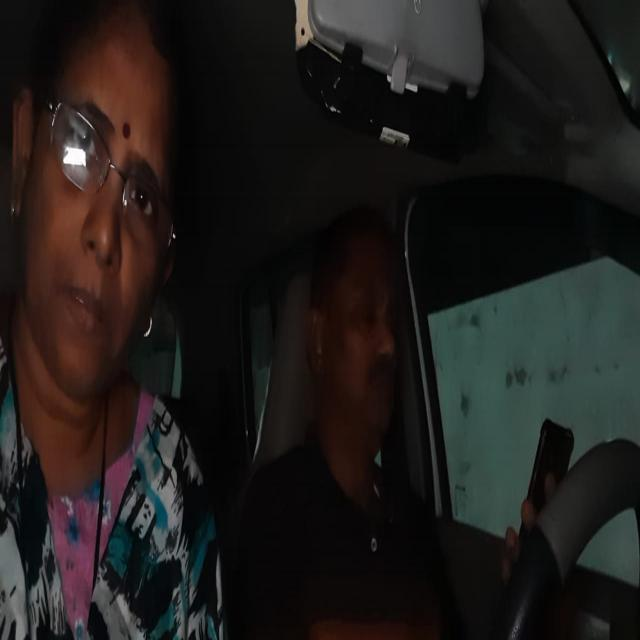mobile: (534, 416, 577, 479)
person: (19, 12, 166, 380), (314, 244, 405, 454)
